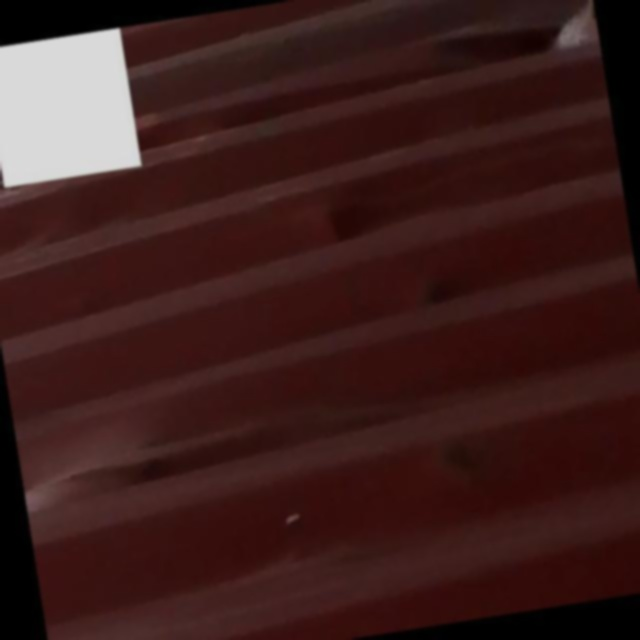Dent: (304, 1, 607, 131)
